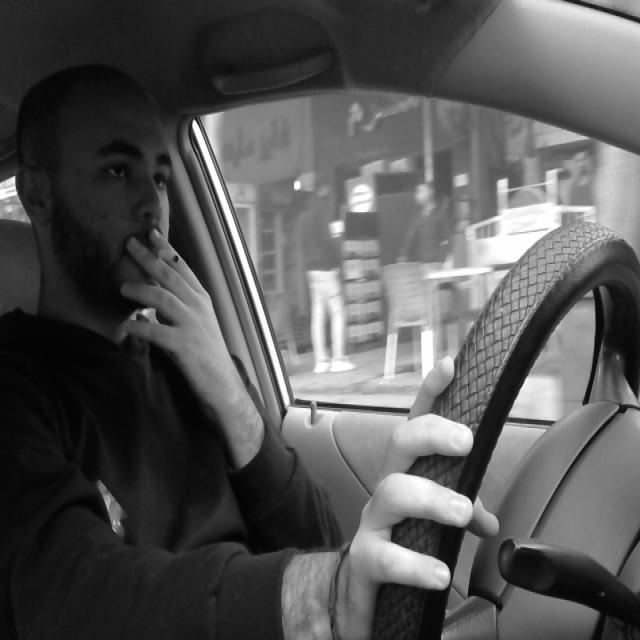smoking: (133, 242, 183, 266)
